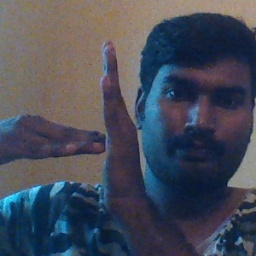Z: (11, 37, 148, 216)
